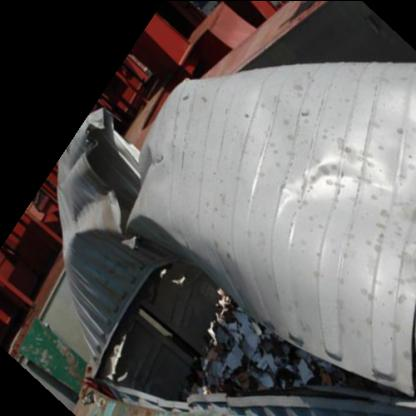Damage: (141, 280, 382, 416)
